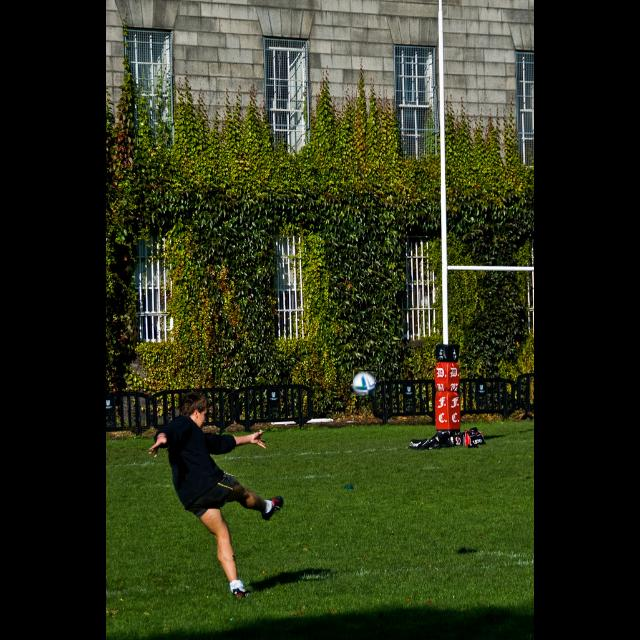Football: (353, 370, 375, 396)
